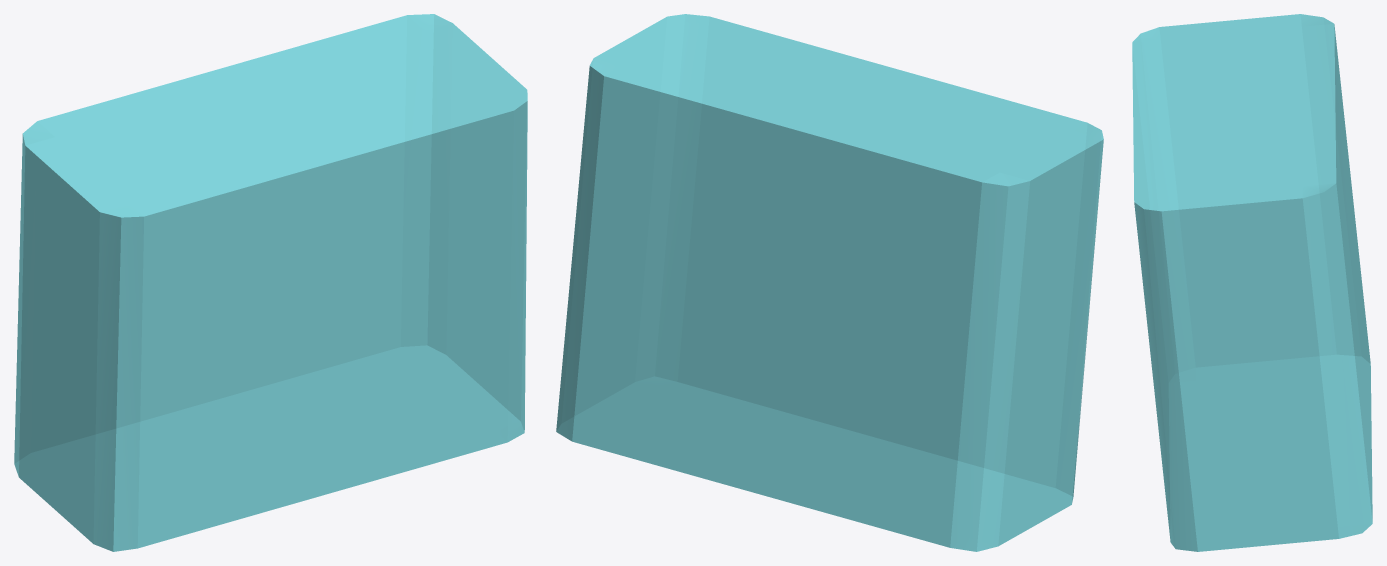
Rendered from morse code hologram puzzle hologram full screen without box to display numbers.fbx.
The picture shows the model from 3 angles, left to right: view 1: azimuth 30°, elevation 25°; view 2: azimuth 150°, elevation 25°; view 3: azimuth 270°, elevation 25°; orthographic projection. The views are drawn at different scales.
Parts seen in each view (by area): view 1: 8ed7bf7a-a996-4210-8d82-907d8fe42d90; view 2: 8ed7bf7a-a996-4210-8d82-907d8fe42d90; view 3: 8ed7bf7a-a996-4210-8d82-907d8fe42d90.
Part boxes in pixels (bbox=[...]): 8ed7bf7a-a996-4210-8d82-907d8fe42d90: bbox=[14, 14, 527, 551]; 8ed7bf7a-a996-4210-8d82-907d8fe42d90: bbox=[556, 14, 1103, 551]; 8ed7bf7a-a996-4210-8d82-907d8fe42d90: bbox=[1132, 14, 1372, 551].
Size of the model in its own units: 68289 by 56658 by 33517.
